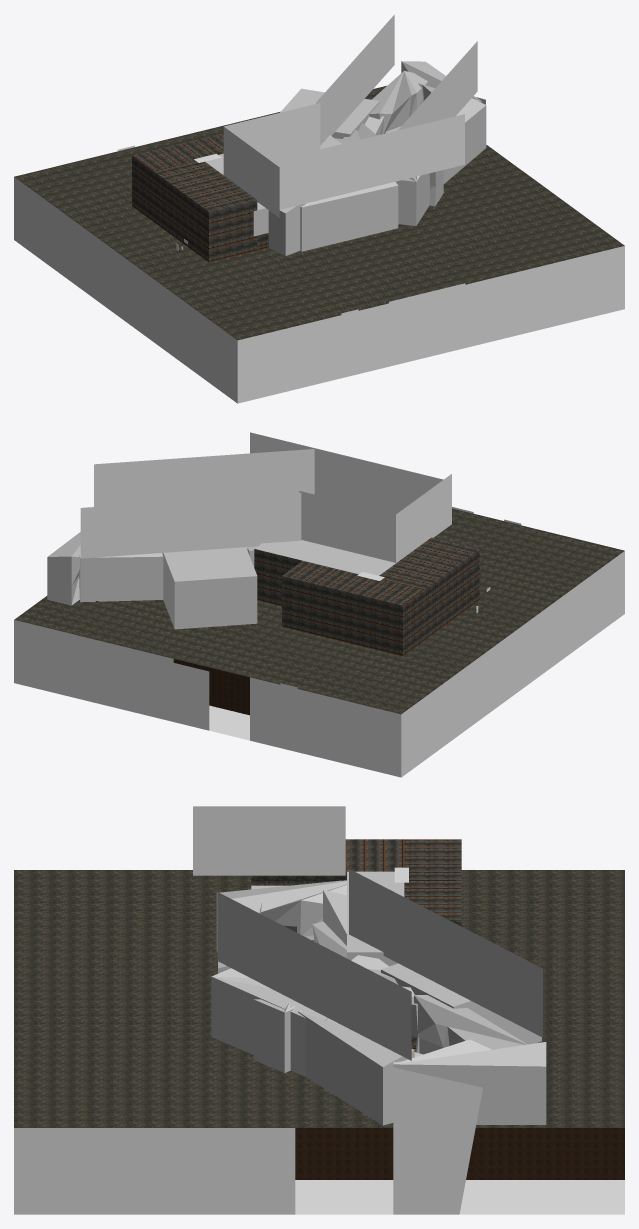
The model's file is navarone.fbx.
3 views of the same model, one above another, from view 1: azimuth 30°, elevation 25°; view 2: azimuth 150°, elevation 25°; view 3: azimuth 270°, elevation 25° (orthographic). The views are drawn at different scales.
Visible parts, largest first — view 1: Navarone; view 2: Navarone; view 3: Navarone.
Boxes of the visible parts, bbox=[...] form: Navarone: bbox=[14, 15, 624, 403]; Navarone: bbox=[14, 432, 624, 777]; Navarone: bbox=[14, 806, 624, 1214].
Bounding box in the file's own units: 17203 × 17203 × 6880.
